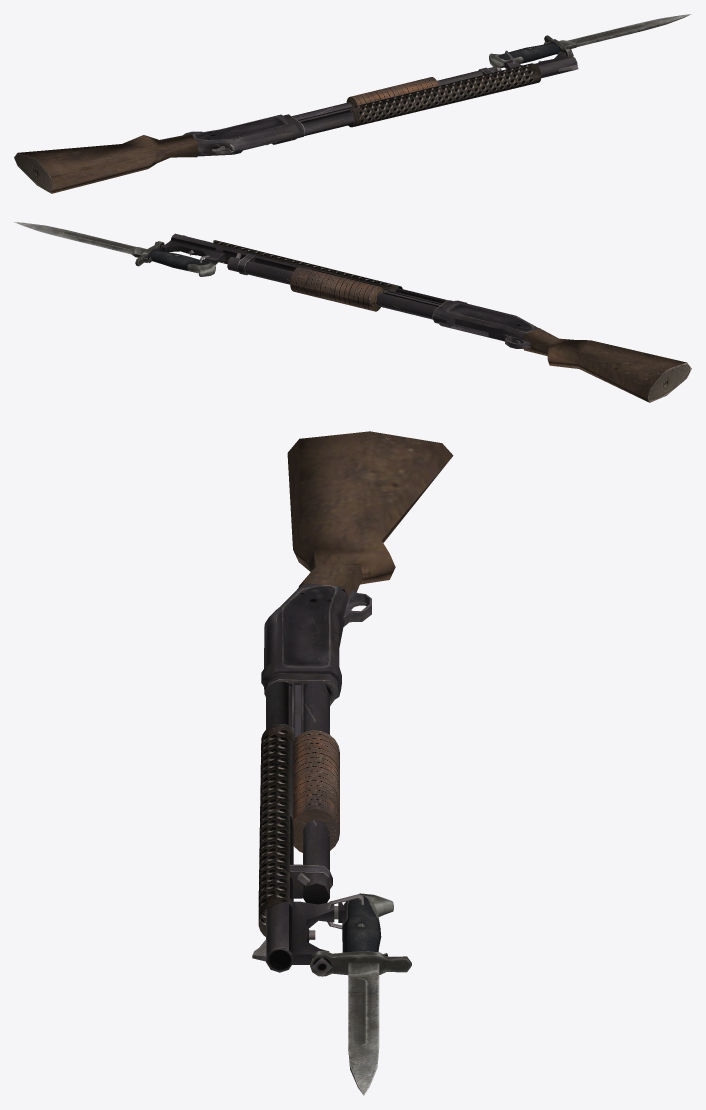
File: weapon_usa_trenchgun_bayonet_LOD01.obj
3 renders of one model, top to bottom at view 1: azimuth 30°, elevation 25°; view 2: azimuth 150°, elevation 25°; view 3: azimuth 270°, elevation 25°, orthographic. The views are drawn at different scales.
Visible parts, largest first — view 1: TomGroup_0, TomGroup_1, TomGroup_2; view 2: TomGroup_1, TomGroup_0, TomGroup_2; view 3: TomGroup_0, TomGroup_1, TomGroup_2.
Boxes of the visible parts, x1,y1,x2,y2 form: TomGroup_0: (183, 49, 578, 156); TomGroup_1: (14, 77, 438, 193); TomGroup_2: (489, 14, 691, 68); TomGroup_1: (290, 267, 691, 402); TomGroup_0: (154, 233, 538, 348); TomGroup_2: (14, 222, 215, 276); TomGroup_0: (252, 583, 371, 976); TomGroup_1: (287, 431, 453, 852); TomGroup_2: (310, 893, 411, 1095).
Bounding box in the file's own units: 138 × 5.29 × 18.29.
2 materials, 2 textured.
